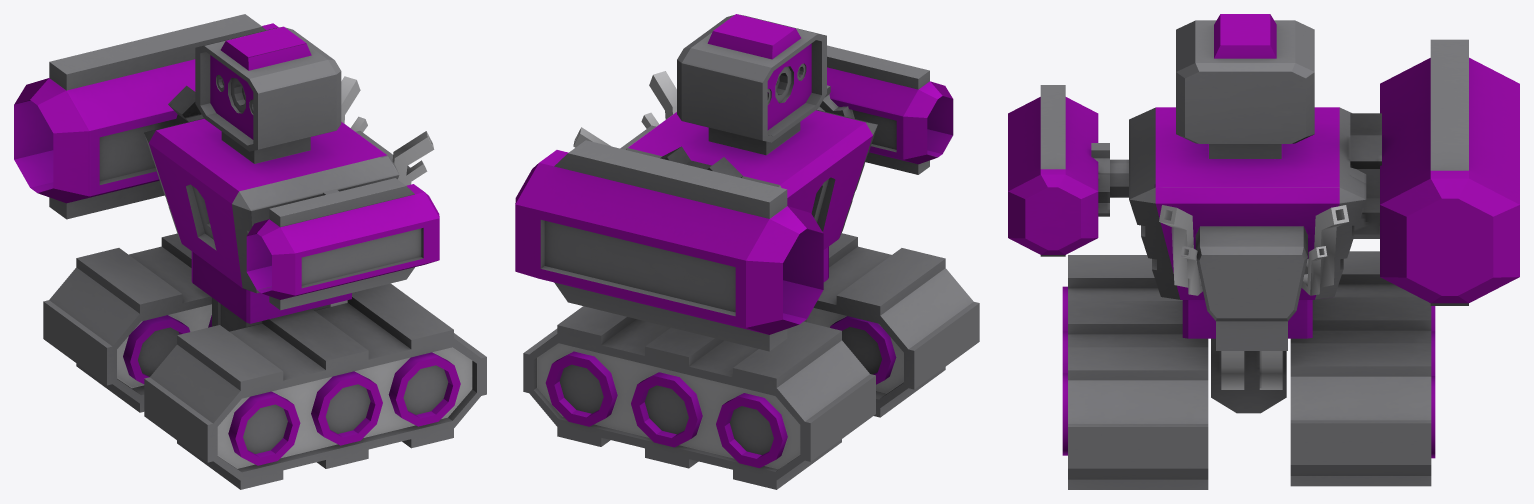
The model's file is Enemy2_Idle9.obj.
3 views of the same model, side by side, from view 1: azimuth 30°, elevation 25°; view 2: azimuth 150°, elevation 25°; view 3: azimuth 270°, elevation 25° (orthographic). The views are drawn at different scales.
Parts seen in each view (by area): view 1: Object006, Object007, Object010, Object009; view 2: Object006, Object007, Object010, Object009; view 3: Object006, Object007, Object010, Object009, Object008.
Part boxes in pixels (left/top/right/bottom): Object006: left=14, top=14, right=486, bottom=489; Object007: left=144, top=26, right=399, bottom=331; Object010: left=330, top=76, right=434, bottom=306; Object009: left=168, top=85, right=203, bottom=125; Object006: left=515, top=45, right=979, bottom=489; Object007: left=626, top=14, right=877, bottom=322; Object010: left=573, top=71, right=676, bottom=149; Object009: left=660, top=146, right=742, bottom=177; Object006: left=1008, top=39, right=1519, bottom=489; Object007: left=1129, top=14, right=1366, bottom=413; Object010: left=1159, top=205, right=1348, bottom=389; Object009: left=1350, top=113, right=1381, bottom=238; Object008: left=1091, top=143, right=1128, bottom=216.
Size of the model in its own units: 87.45 by 108 by 125.
